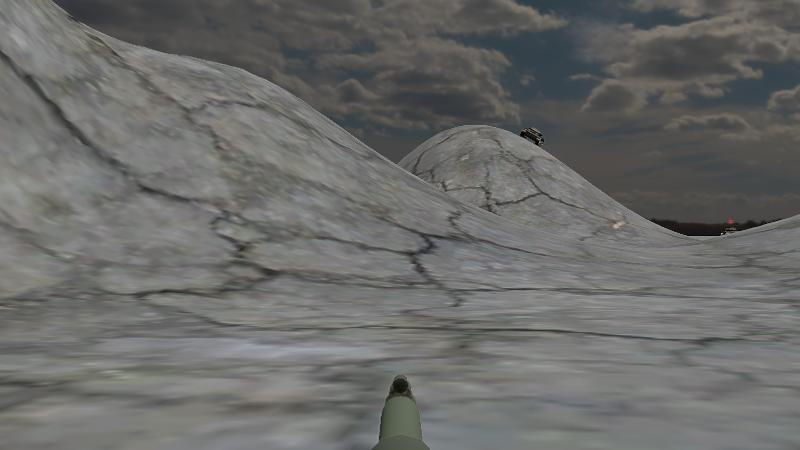Tank: (519, 125, 545, 147)
